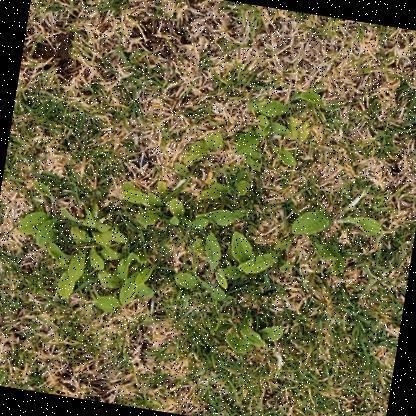Weeds: (5, 48, 402, 372)
